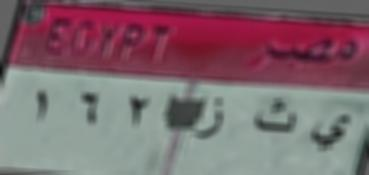1: (31, 86, 54, 136)
2: (124, 92, 151, 132)
6: (75, 90, 105, 133)
thaa: (250, 96, 298, 138)
yaa: (306, 109, 353, 156)
zay: (194, 95, 230, 146)
